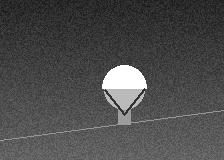helmet: (102, 65, 146, 114)
